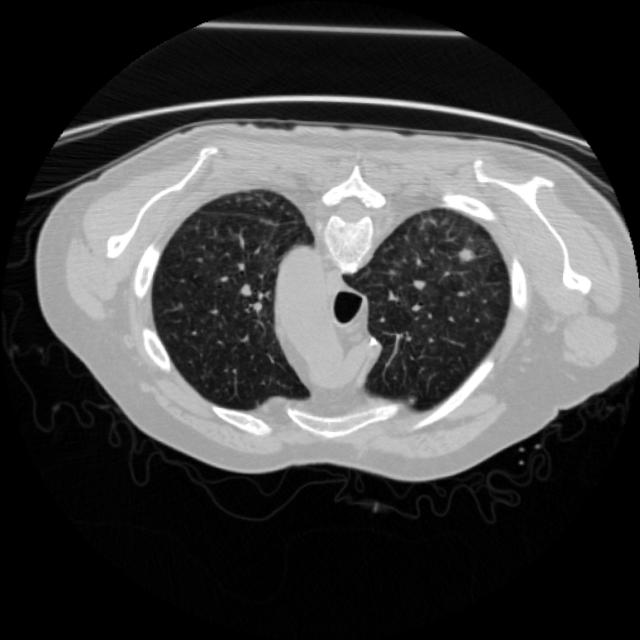nodule: (451, 238, 484, 272)
